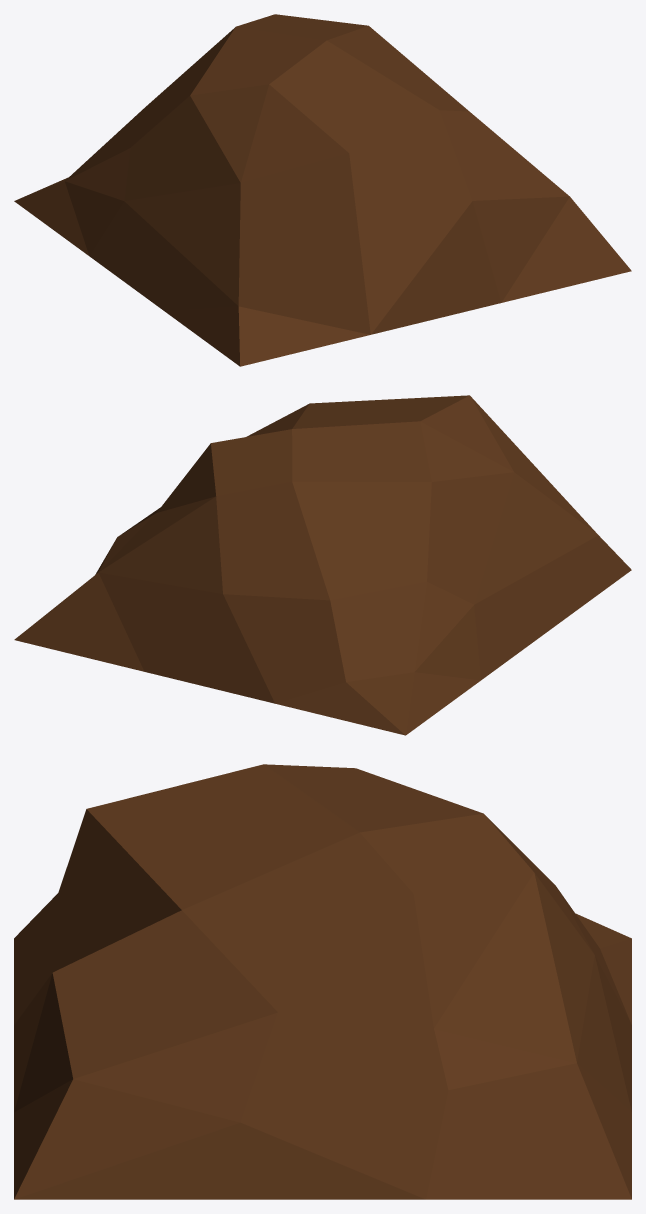
Rendered from Rocher_A.FBX.
3 renders of one model, top to bottom at view 1: azimuth 30°, elevation 25°; view 2: azimuth 150°, elevation 25°; view 3: azimuth 270°, elevation 25°, orthographic. The views are drawn at different scales.
Visible parts, largest first — view 1: Rocher_A; view 2: Rocher_A; view 3: Rocher_A.
Boxes of the visible parts, box(x1,y1,x2,y2) form: Rocher_A: box(14, 14, 631, 366); Rocher_A: box(14, 395, 631, 735); Rocher_A: box(14, 764, 631, 1199).
Bounding box in the file's own units: 3 × 1.36 × 3.
